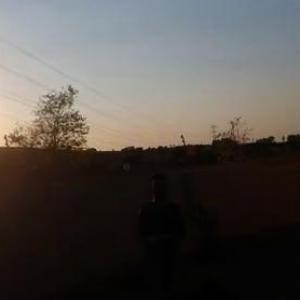follow: (129, 169, 188, 299)
